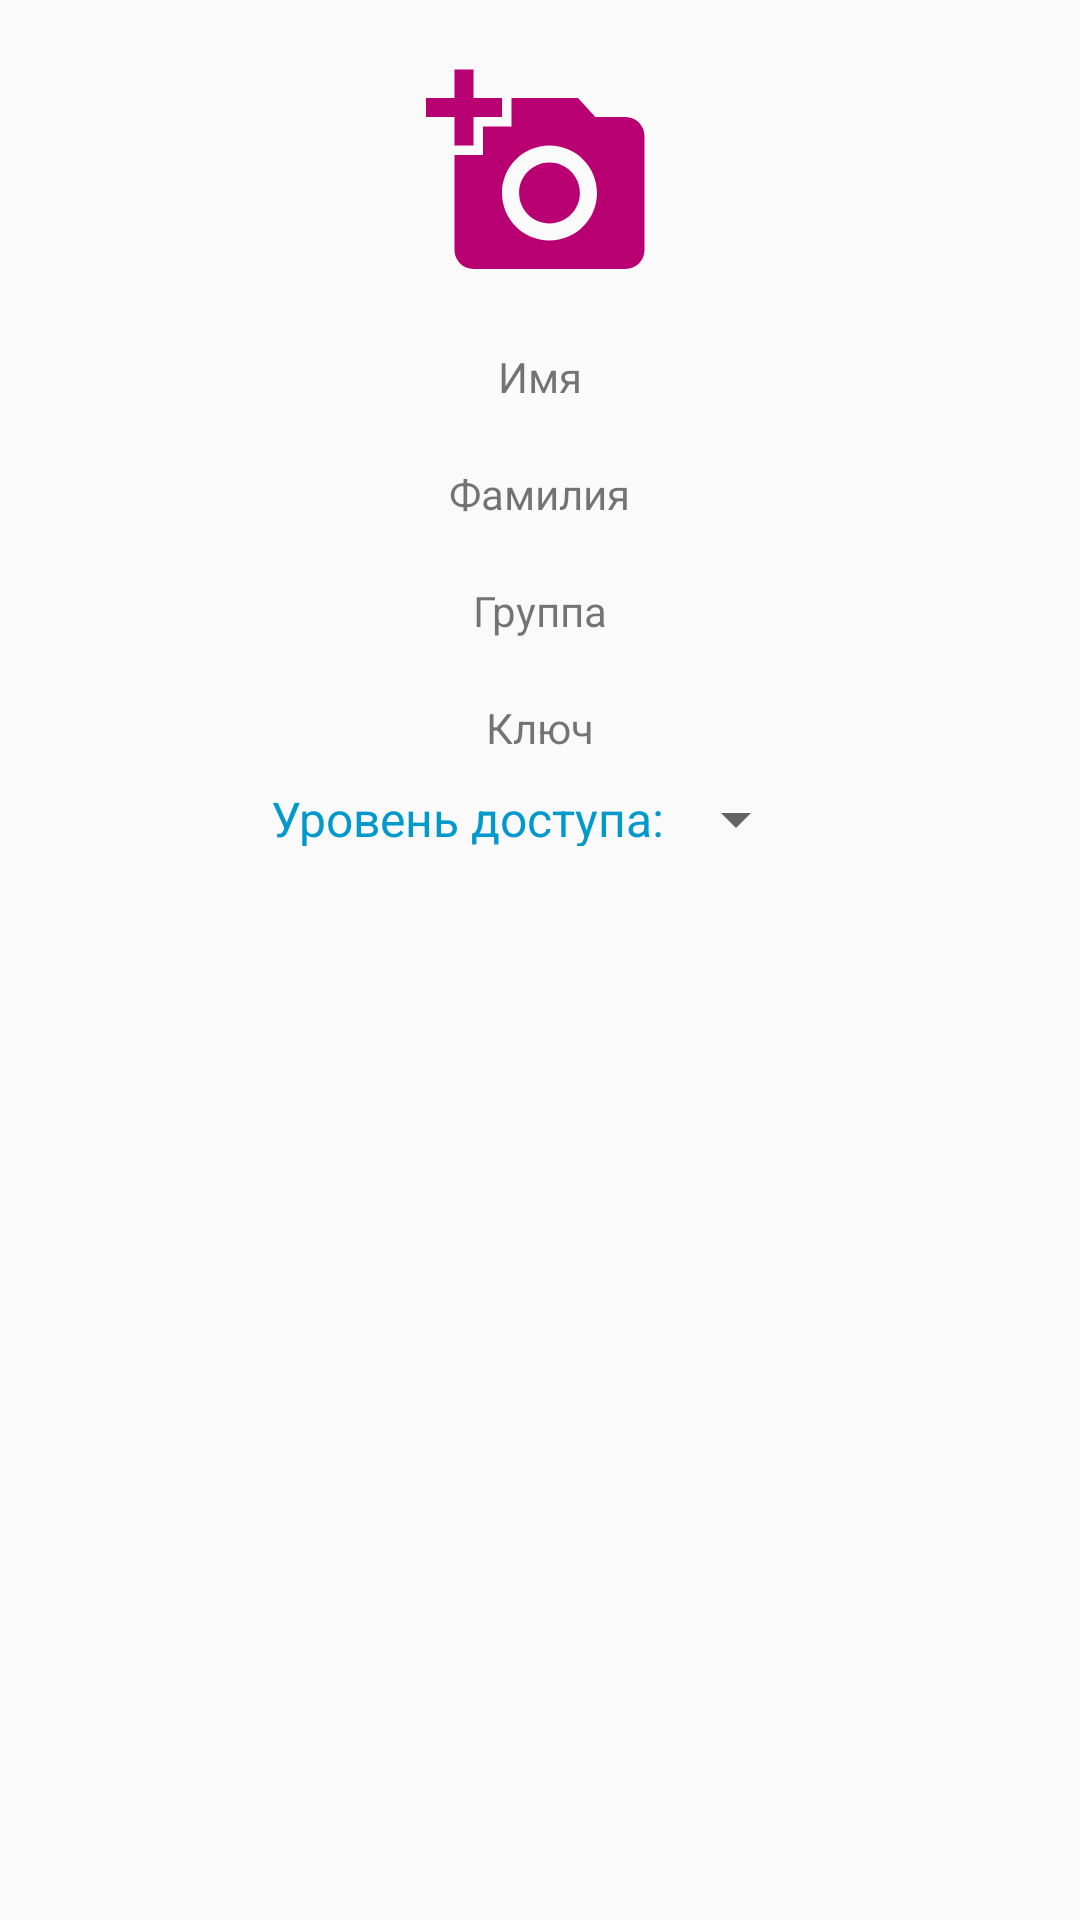

Where icons sit on this 1080w x 1920h app screen, as (left=x1, top=y1, right=x2, bottom=y2):
add photo: (left=426, top=69, right=645, bottom=269)
